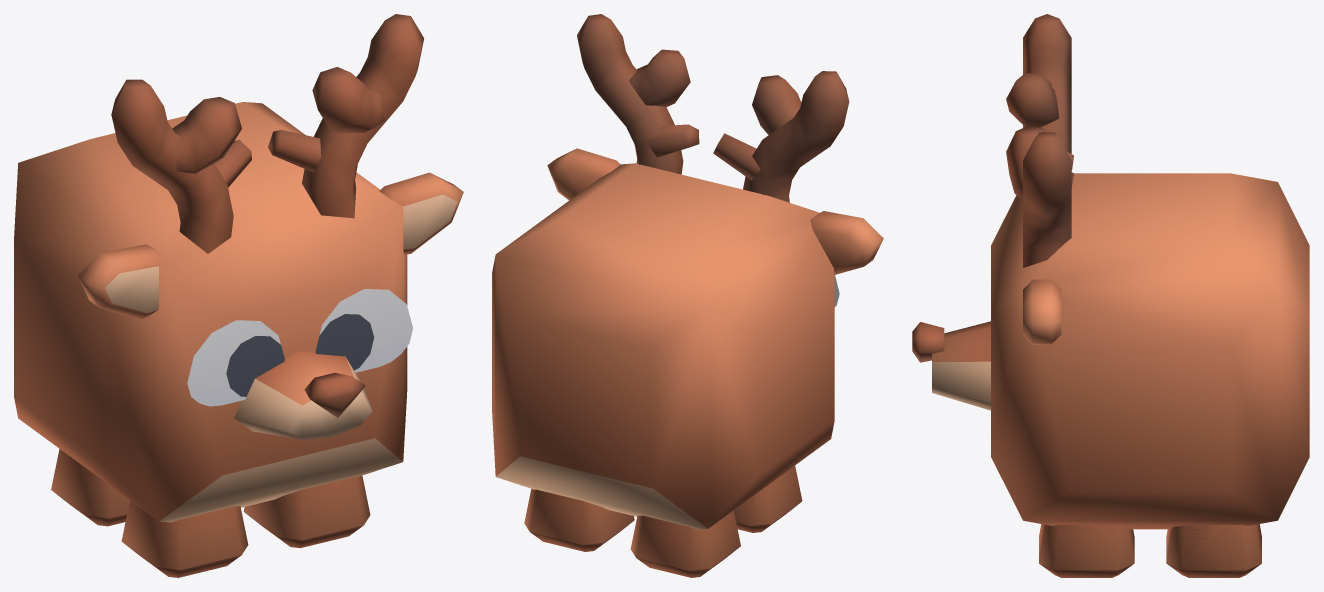
The model's file is seri 1 model 4(Geyik).glb.
3 renders of one model, left to right at view 1: azimuth 30°, elevation 25°; view 2: azimuth 150°, elevation 25°; view 3: azimuth 270°, elevation 25°, orthographic. The views are drawn at different scales.
Visible parts, largest first — view 1: body, leg-front-right, leg-front-left, leg-back-right; view 2: body, leg-back-right, leg-back-left, leg-front-right; view 3: body, leg-front-left, leg-back-left.
Part boxes in pixels (bbox=[...]): body: bbox=[14, 14, 463, 522]; leg-front-right: bbox=[121, 500, 248, 577]; leg-front-left: bbox=[243, 475, 370, 548]; leg-back-right: bbox=[51, 449, 129, 526]; body: bbox=[492, 14, 883, 529]; leg-back-right: bbox=[630, 510, 740, 577]; leg-back-left: bbox=[524, 489, 634, 551]; leg-front-right: bbox=[734, 465, 802, 532]; body: bbox=[912, 14, 1309, 529]; leg-front-left: bbox=[1039, 524, 1134, 577]; leg-back-left: bbox=[1166, 524, 1261, 577].
Size of the model in its own units: 1.54 by 1.99 by 1.56.
Materials: 1 (1 with a texture image).
